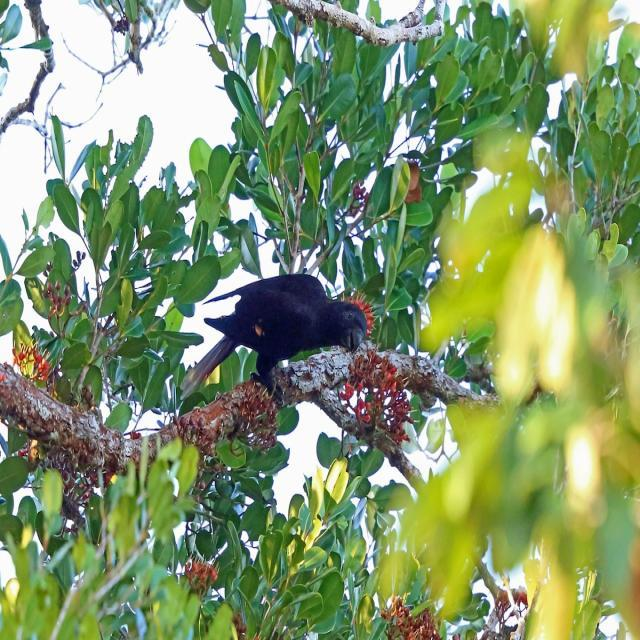Nuri Hitam: (170, 250, 368, 430)
